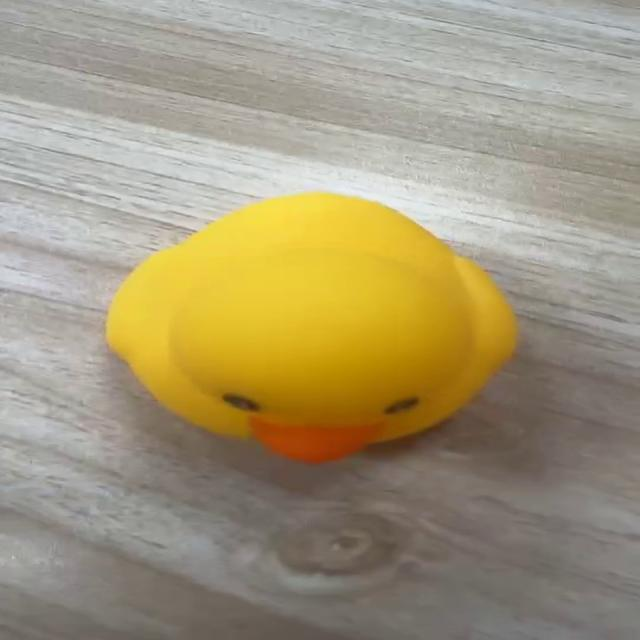yellow_duck: (102, 189, 519, 465)
